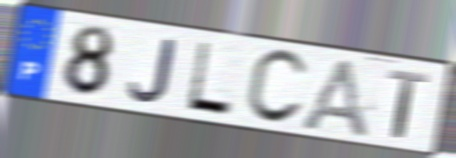8: (58, 23, 113, 100)
A: (295, 56, 373, 142)
C: (242, 47, 311, 128)
J: (126, 37, 177, 105)
L: (183, 38, 235, 119)
T: (386, 66, 431, 141)
